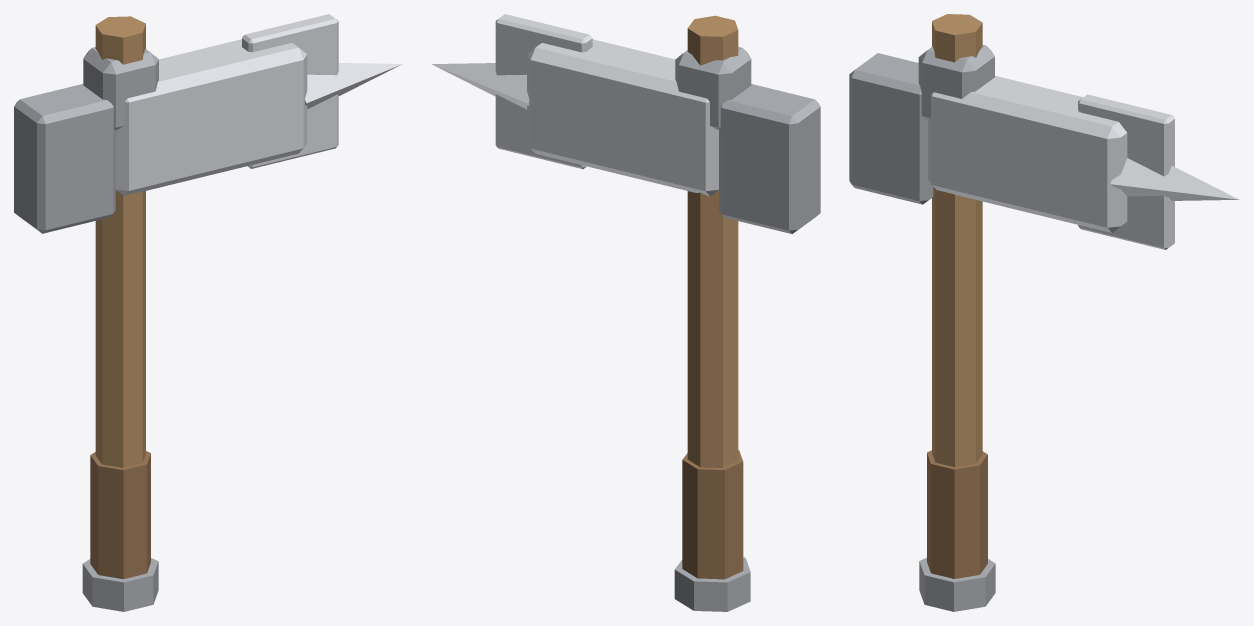
File: axe.fbx
3 renders of one model, left to right at view 1: azimuth 30°, elevation 25°; view 2: azimuth 150°, elevation 25°; view 3: azimuth 330°, elevation 25°, orthographic.
Parts seen in each view (by area): view 1: Head, Handle, HeadBack, Grip, Blade, HeadPoll, Pommel, EdgeTip; view 2: Head, Handle, HeadBack, Grip, Blade, HeadPoll, Pommel, EdgeTip; view 3: Head, Handle, HeadBack, Grip, Blade, HeadPoll, EdgeTip, Pommel.
Part boxes in pixels (x1,y1,x2,y2): Head: (115, 39, 307, 195); Handle: (95, 16, 145, 467); HeadBack: (14, 84, 115, 233); Grip: (90, 451, 150, 579); Blade: (242, 14, 338, 168); HeadPoll: (83, 47, 158, 130); Pommel: (82, 558, 158, 611); EdgeTip: (305, 63, 402, 109); Head: (527, 39, 718, 196); Handle: (687, 15, 738, 467); HeadBack: (719, 84, 820, 233); Grip: (682, 450, 743, 579); Blade: (495, 14, 592, 169); HeadPoll: (675, 47, 751, 130); Pommel: (674, 557, 750, 611); EdgeTip: (431, 63, 529, 109); Head: (928, 75, 1127, 232); Handle: (932, 14, 982, 467); HeadBack: (849, 53, 933, 204); Grip: (927, 450, 987, 578); Blade: (1078, 94, 1174, 249); HeadPoll: (918, 45, 994, 119); EdgeTip: (1110, 158, 1238, 200); Pommel: (919, 557, 995, 611).
Bounding box in the file's own units: 0.67 × 0.965 × 0.1141.
